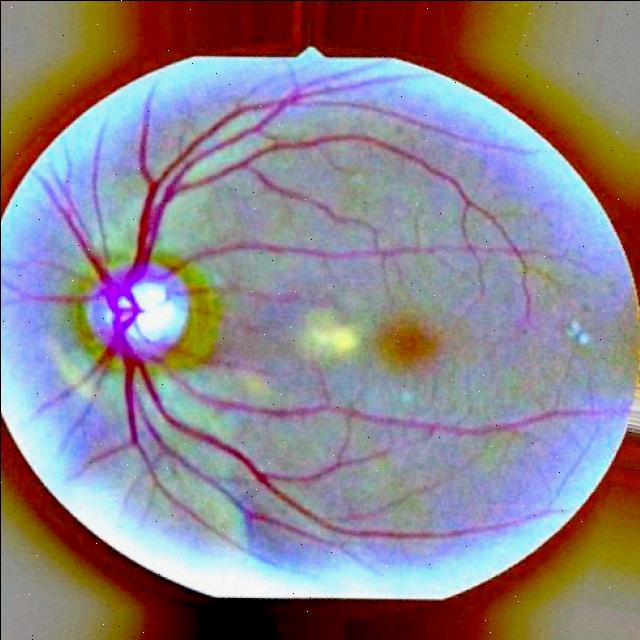Macula: (374, 315, 438, 366)
Nerves: (86, 282, 614, 539), (120, 86, 505, 295), (7, 179, 188, 376)
Optic Disk: (42, 238, 222, 389)
